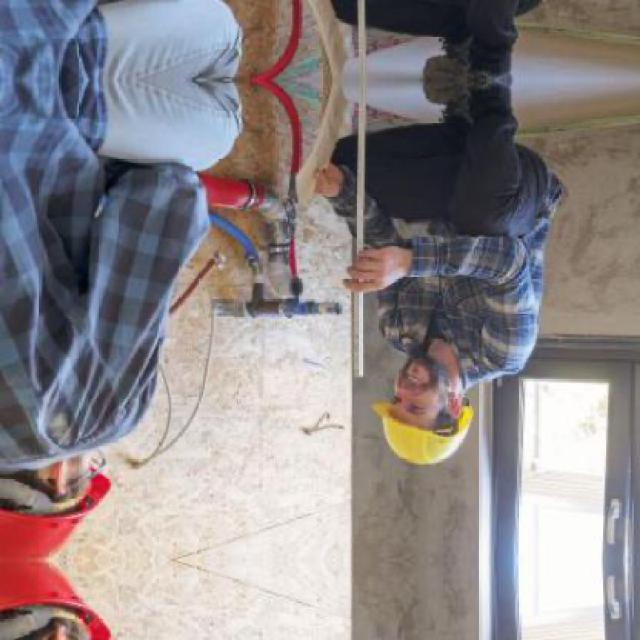con casco: (323, 303, 524, 489), (0, 402, 153, 555)
